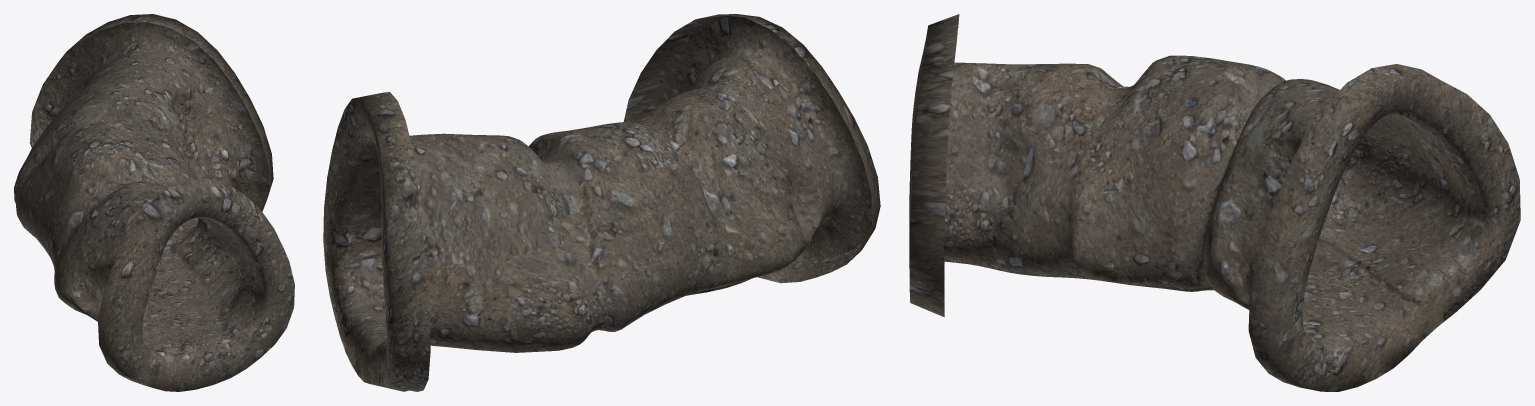
The model's file is cave_tunnel_turn_02.dae.
3 renders of one model, left to right at view 1: azimuth 30°, elevation 25°; view 2: azimuth 150°, elevation 25°; view 3: azimuth 270°, elevation 25°, orthographic. The views are drawn at different scales.
Parts seen in each view (by area): view 1: tunnel_turn_02; view 2: tunnel_turn_02; view 3: tunnel_turn_02.
Boxes of the visible parts, left/top/right/bottom form: tunnel_turn_02: left=14, top=14, right=294, bottom=391; tunnel_turn_02: left=323, top=14, right=880, bottom=391; tunnel_turn_02: left=909, top=14, right=1520, bottom=391.
Size of what is drawn, in the model's own units: 9.42 by 6.7 by 12.37.
